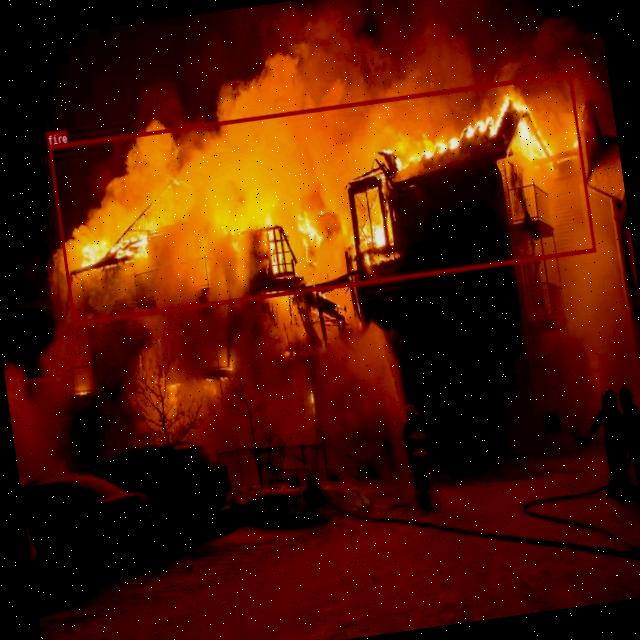fire: (48, 72, 596, 324)
